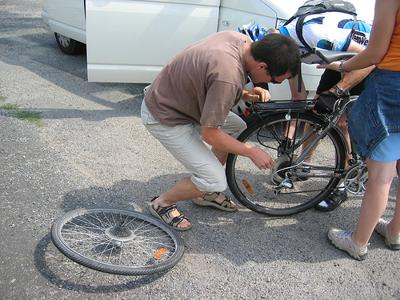person: (135, 29, 305, 230)
